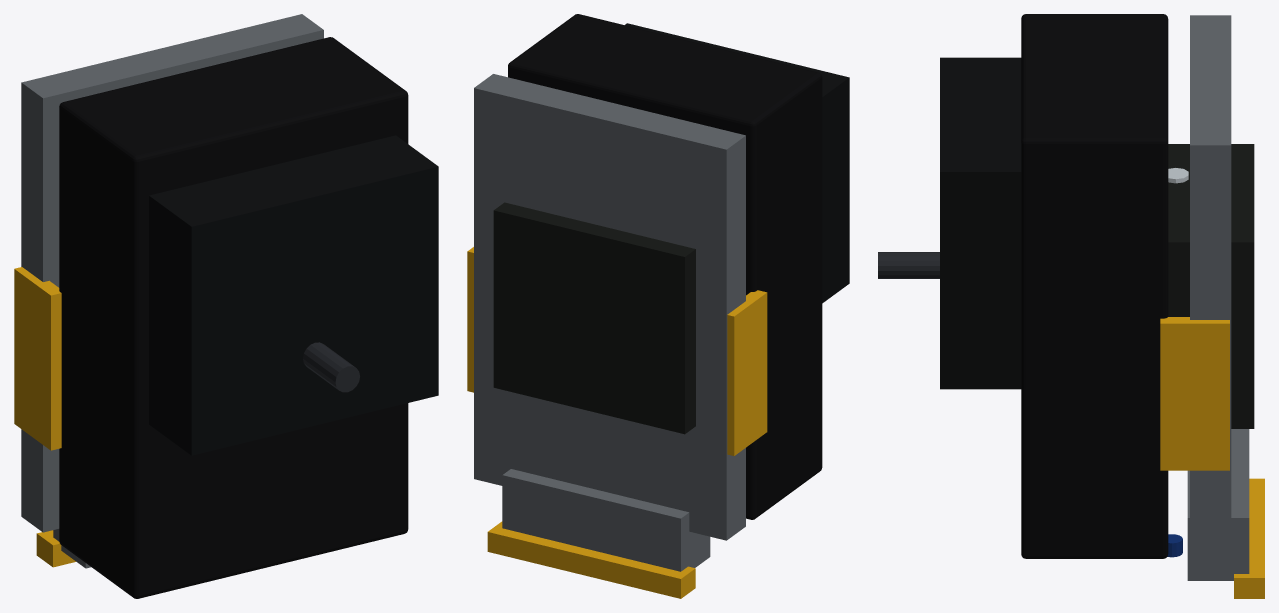
Rendered from chasis.obj.
The picture shows the model from 3 angles, left to right: view 1: azimuth 30°, elevation 25°; view 2: azimuth 150°, elevation 25°; view 3: azimuth 270°, elevation 25°; orthographic projection. The views are drawn at different scales.
Parts seen in each view (by area): view 1: Export_Chasis; view 2: Export_Chasis; view 3: Export_Chasis.
Part boxes in pixels (x1,y1,x2,y2): Export_Chasis: [14, 14, 438, 598]; Export_Chasis: [467, 14, 849, 598]; Export_Chasis: [878, 14, 1264, 598].
Size of the model in its own units: 0.84 by 1.36 by 1.
